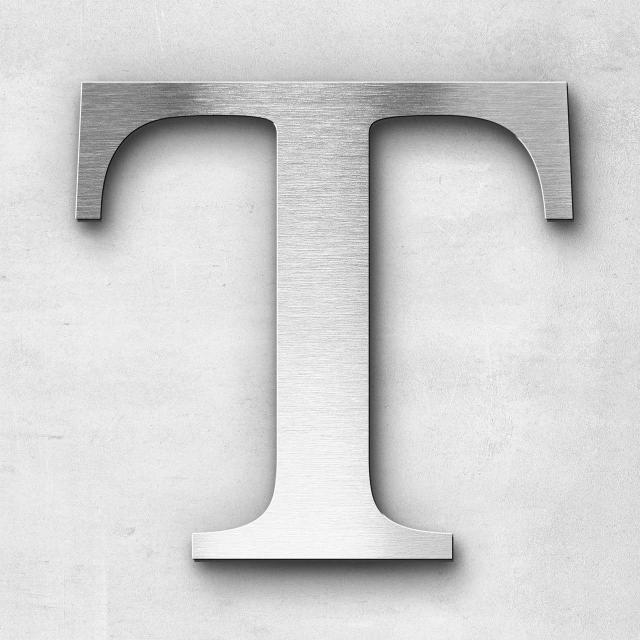T: (26, 43, 603, 592)
